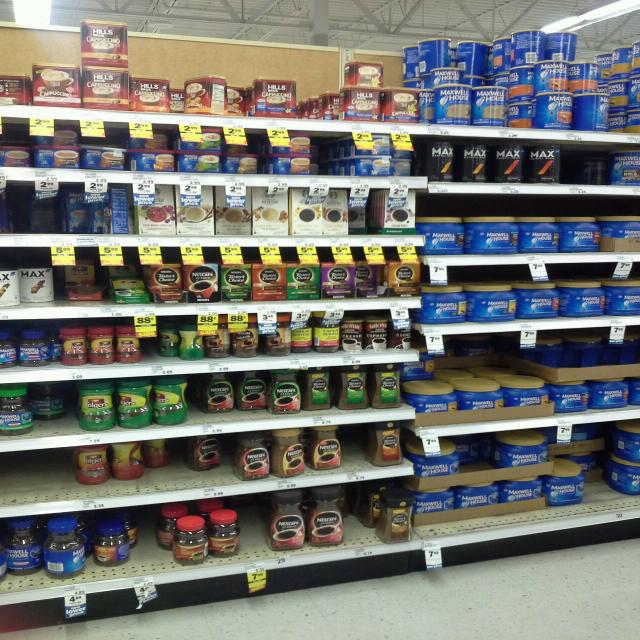empty: (1, 447, 70, 501), (558, 145, 622, 186), (239, 493, 276, 558)
